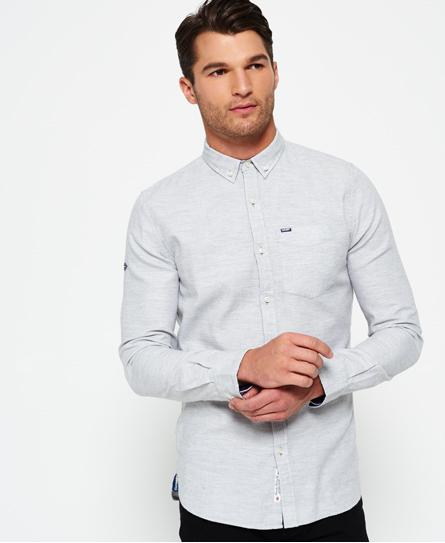teeshirt: (111, 152, 426, 520)
